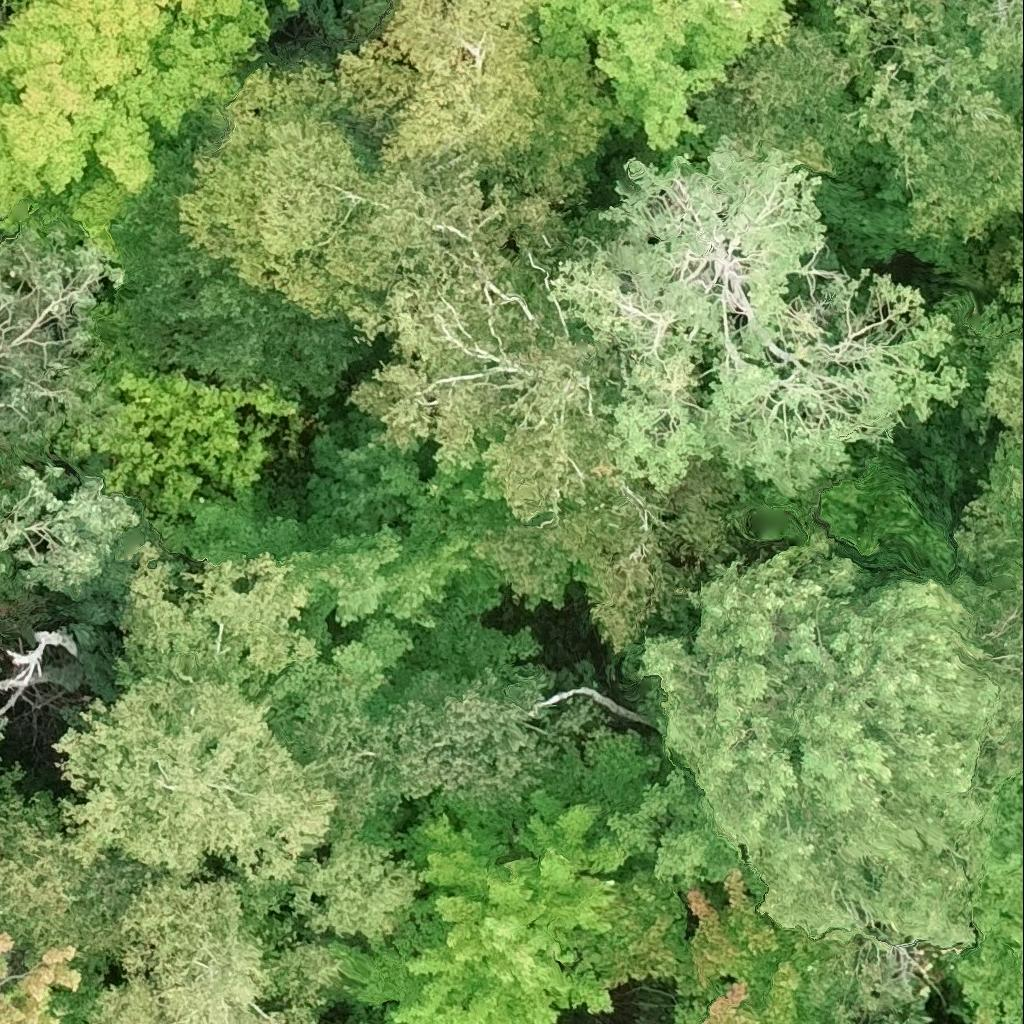crown: (350, 163, 736, 656), (639, 531, 1023, 1023), (549, 131, 968, 497), (209, 679, 555, 944), (0, 0, 273, 260), (176, 63, 438, 310), (52, 674, 338, 886), (382, 789, 627, 1023), (525, 0, 796, 148), (529, 731, 764, 901), (335, 0, 555, 177), (0, 767, 178, 980), (83, 879, 340, 1023), (48, 367, 300, 513), (828, 0, 1023, 161), (114, 548, 312, 701), (936, 250, 1023, 580), (696, 26, 861, 193), (0, 228, 123, 427), (278, 525, 470, 632), (941, 774, 1023, 1023), (674, 872, 809, 1023), (556, 867, 700, 1003), (0, 466, 135, 597), (894, 108, 1023, 241), (703, 936, 834, 1023), (326, 945, 468, 1023), (0, 932, 86, 1023), (530, 688, 659, 727), (985, 559, 1023, 584), (481, 1013, 512, 1023), (271, 0, 298, 11), (0, 714, 7, 737), (353, 1019, 368, 1023)
